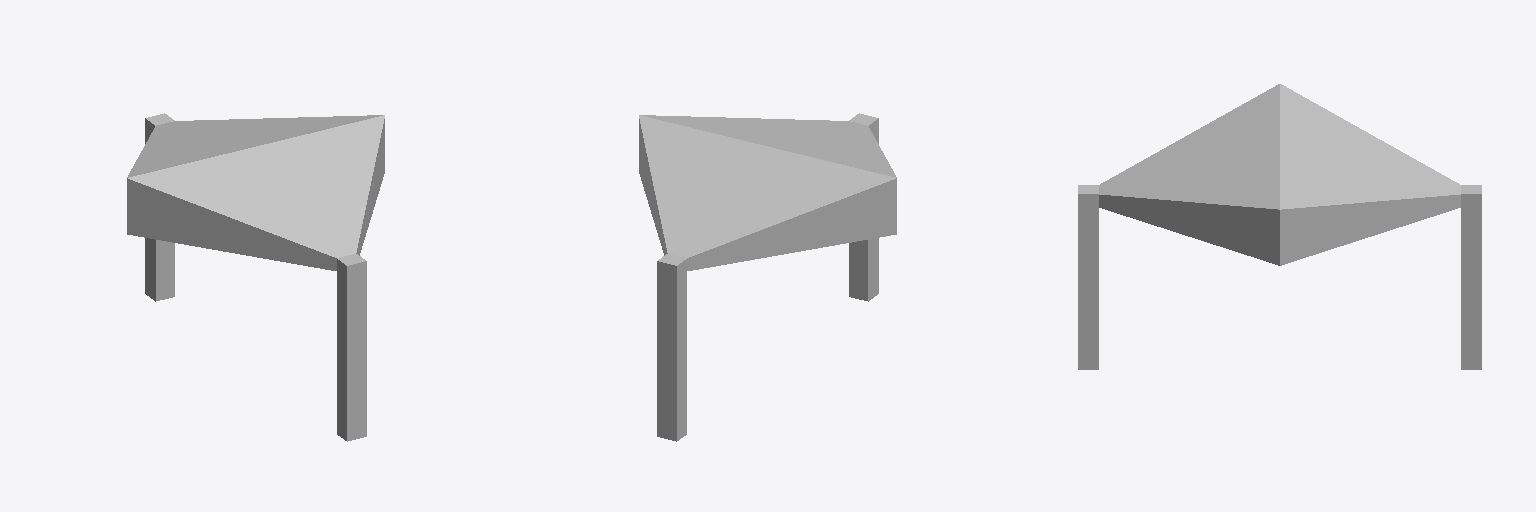
Rendered from BuildingOpenV2.obj.
3 views of the same model, side by side, from view 1: azimuth 30°, elevation 25°; view 2: azimuth 150°, elevation 25°; view 3: azimuth 270°, elevation 25° (orthographic).
Visible parts, largest first — view 1: pCube9; view 2: pCube9; view 3: pCube9.
Part boxes in pixels (x1,y1,x2,y2): pCube9: (127,113,384,441); pCube9: (639,113,896,441); pCube9: (1078,84,1481,369).
Size of the model in its own units: 4.03 by 3.26 by 5.44.